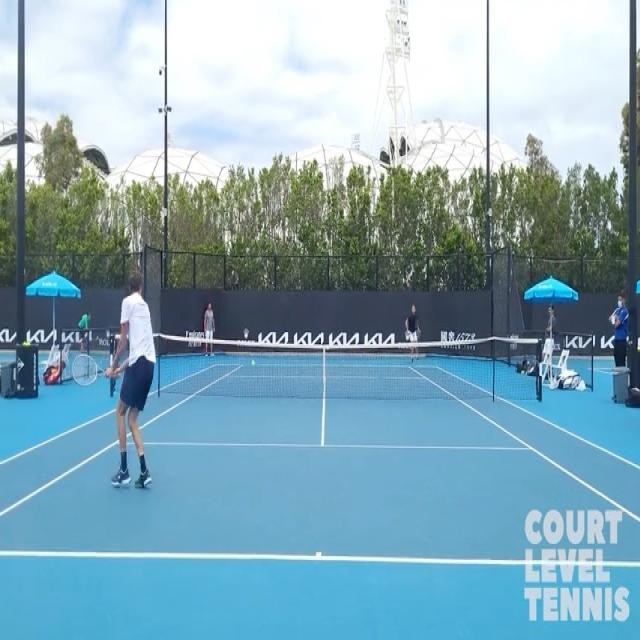backhand-ready: (67, 272, 160, 494)
